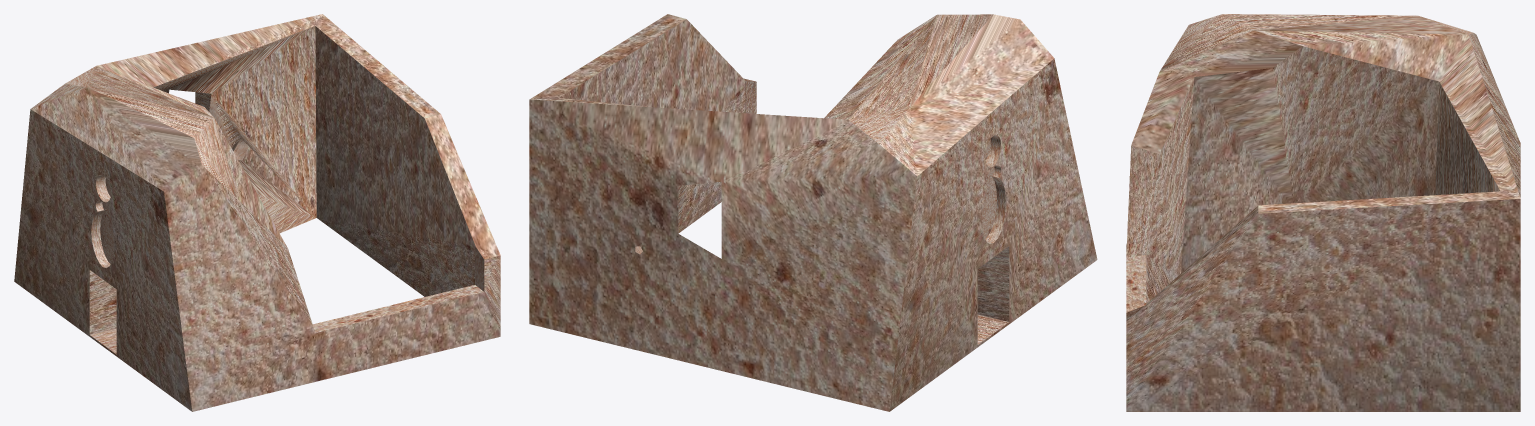
Rendered from templo.fbx.
3 renders of one model, left to right at view 1: azimuth 30°, elevation 25°; view 2: azimuth 150°, elevation 25°; view 3: azimuth 270°, elevation 25°, orthographic. The views are drawn at different scales.
Visible parts, largest first — view 1: pCube15; view 2: pCube15; view 3: pCube15.
Boxes of the visible parts, x1,y1,x2,y2 form: pCube15: (14,14,500,411); pCube15: (529,14,1097,411); pCube15: (1126,14,1520,411).
Size of the model in its own units: 25.31 by 18.02 by 25.
1 material, 1 textured.
